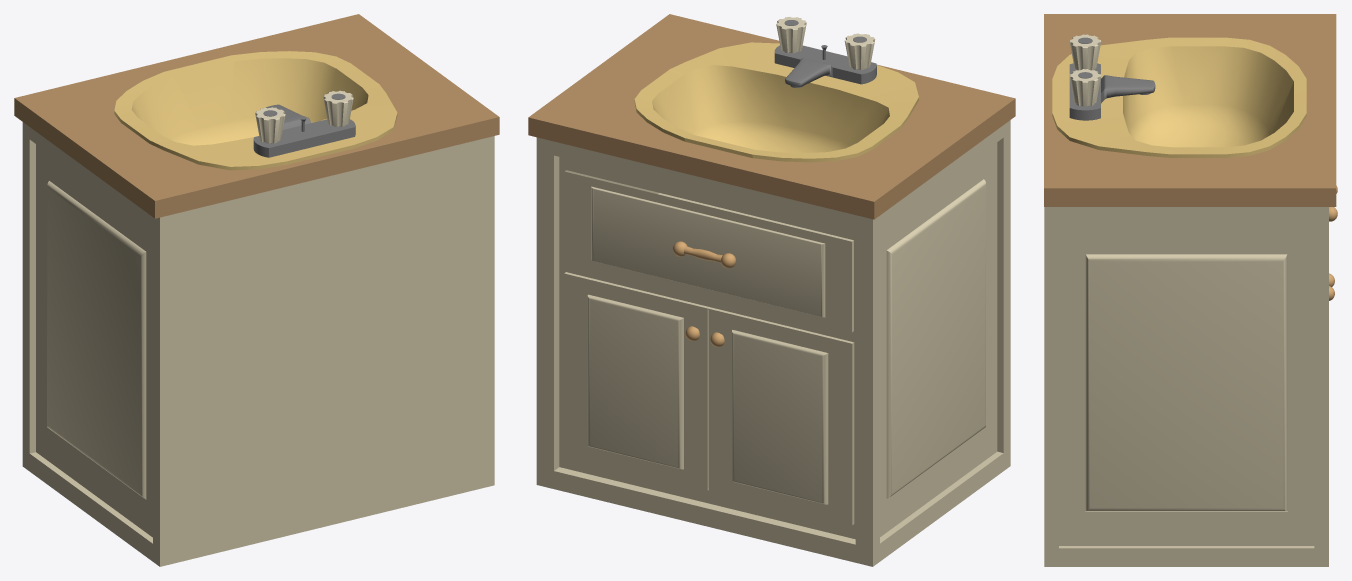
The model's file is Sink.fbx.
3 views of the same model, side by side, from view 1: azimuth 30°, elevation 25°; view 2: azimuth 150°, elevation 25°; view 3: azimuth 270°, elevation 25° (orthographic). The views are drawn at different scales.
Parts seen in each view (by area): view 1: Cube.009, Cube.012, Cube.014, Cylinder.023, Cylinder.025; view 2: Cube.009, Cube.011, Cube.012, Cube.010, Cube.014, Cylinder.023, Cylinder.025, Sphere; view 3: Cube.009, Cube.012, Cube.014, Cylinder.025, Cylinder.023.
Part boxes in pixels (x1=…): Cube.009: x1=22, y1=122, x2=494, y2=566; Cube.012: x1=14, y1=14, x2=499, y2=218; Cube.014: x1=114, y1=51, x2=397, y2=170; Cylinder.023: x1=255, y1=107, x2=285, y2=143; Cylinder.025: x1=323, y1=90, x2=353, y2=126; Cube.009: x1=536, y1=120, x2=1010, y2=566; Cube.011: x1=564, y1=272, x2=854, y2=525; Cube.012: x1=528, y1=14, x2=1015, y2=219; Cube.010: x1=564, y1=170, x2=853, y2=332; Cube.014: x1=634, y1=20, x2=918, y2=162; Cylinder.023: x1=844, y1=33, x2=875, y2=69; Cylinder.025: x1=776, y1=17, x2=806, y2=53; Sphere: x1=673, y1=241, x2=736, y2=268; Cube.009: x1=1044, y1=207, x2=1328, y2=566; Cube.012: x1=1044, y1=14, x2=1336, y2=206; Cube.014: x1=1052, y1=37, x2=1306, y2=157; Cylinder.025: x1=1069, y1=69, x2=1101, y2=106; Cylinder.023: x1=1069, y1=34, x2=1101, y2=70.
Size of the model in its own units: 104 by 118 by 74.29.
